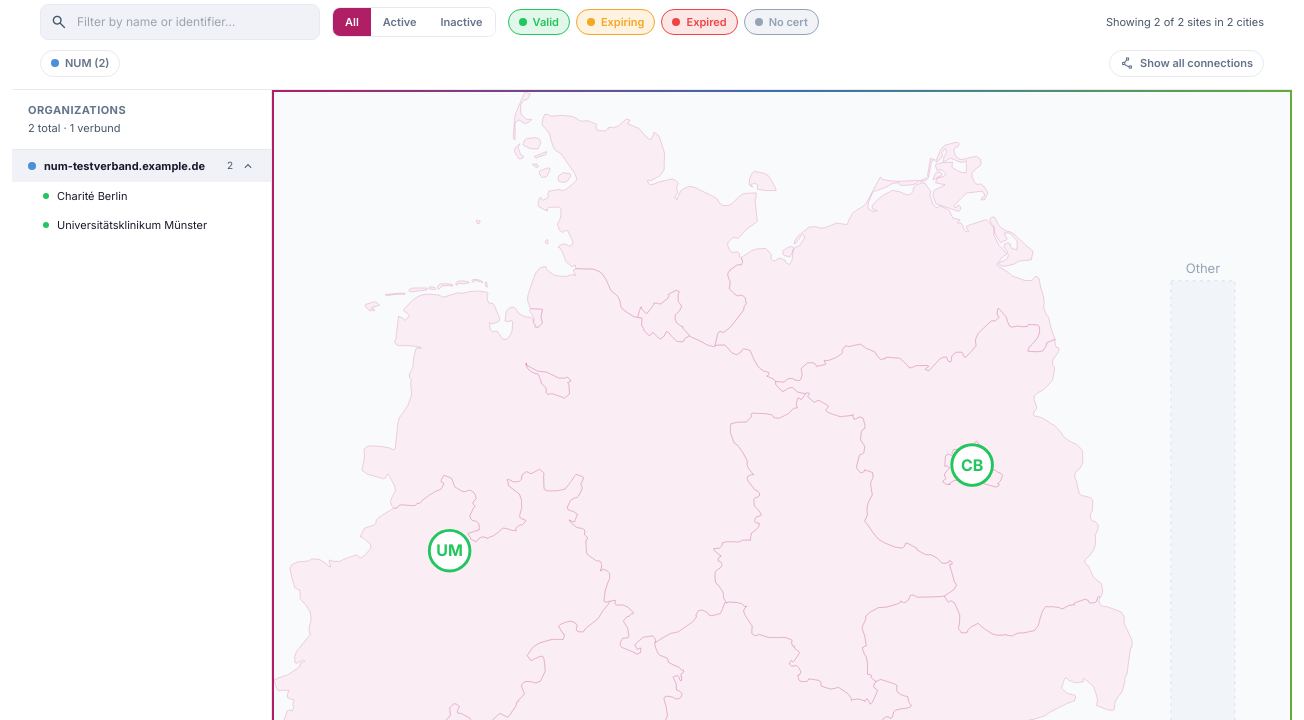
it: MapPage › hides admin-only detail sections for non-admin viewers
This screenshot has width=1304, height=720.
Click the button "Universitätsklinikum Münster". click: (142, 225)
box: [12,210,271,239]
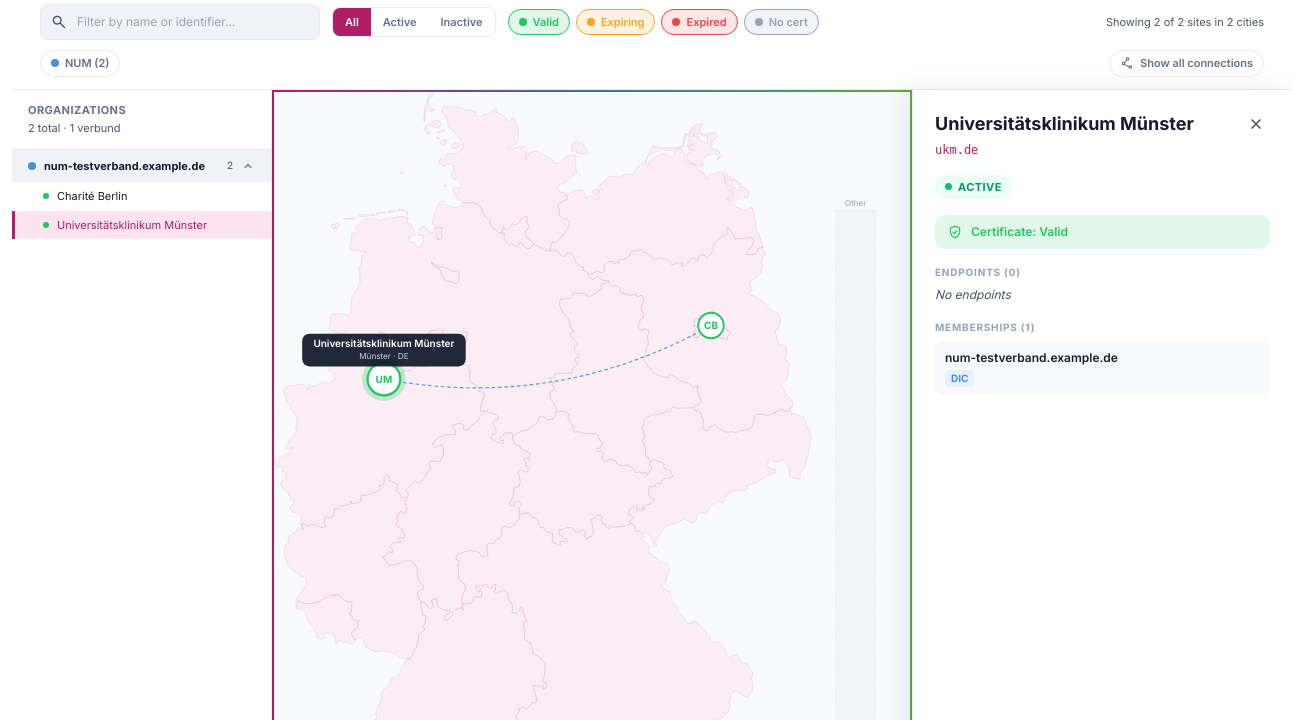
Expected: the text "Endpoints (0)" is shown, [935,266,1021,278]
